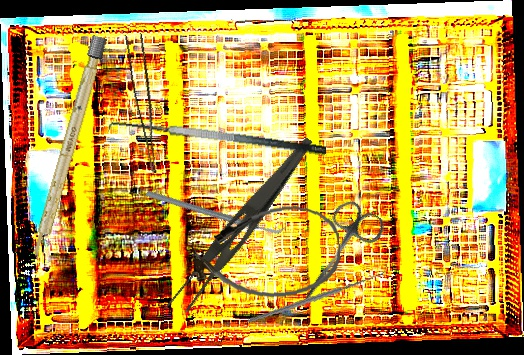Cannula: (189, 201, 344, 305)
Chopper: (143, 143, 288, 280)
Dressing Forceps: (161, 123, 314, 326)
Hook Surgical: (247, 240, 387, 348)
Iris Scissors: (281, 194, 390, 321)
Scalpel Handle: (28, 34, 108, 263)
Spatula Surgical: (106, 110, 328, 174)
Tissue Forceps: (120, 31, 173, 174)
